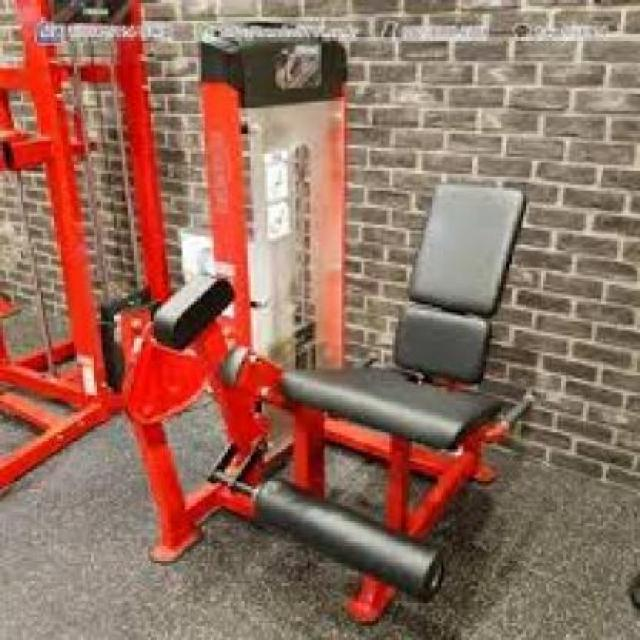leg extension: (96, 17, 550, 629)
